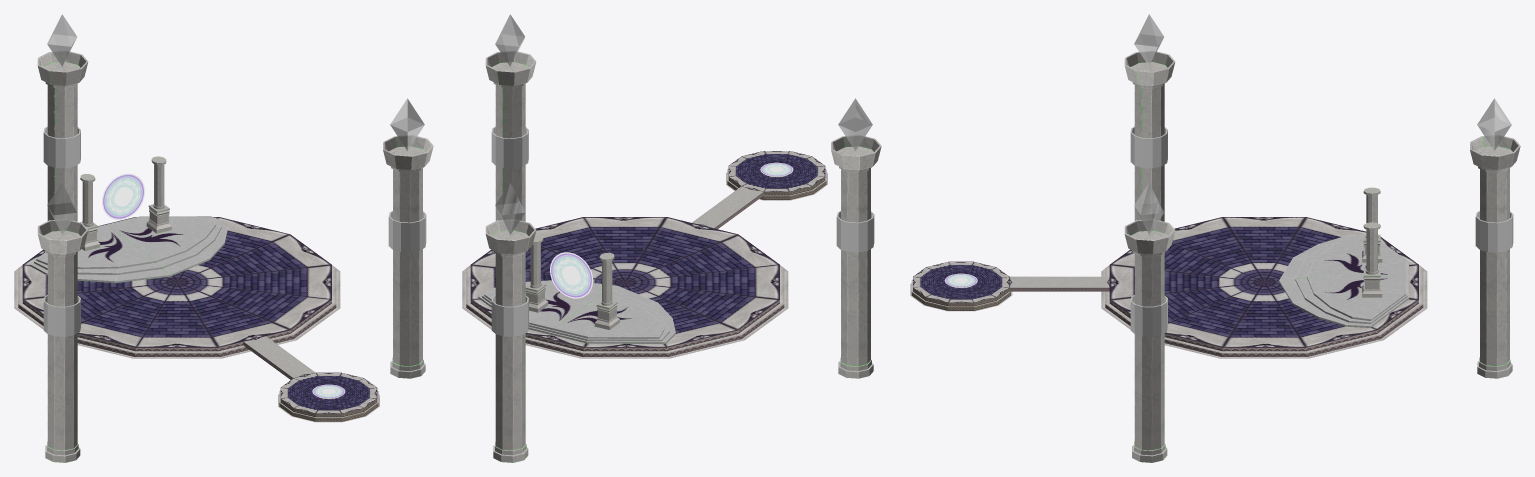
The model's file is stage01_attatch.FBX.
The picture shows the model from 3 angles, left to right: view 1: azimuth 30°, elevation 25°; view 2: azimuth 150°, elevation 25°; view 3: azimuth 270°, elevation 25°; orthographic projection.
Parts seen in each view (by area): view 1: Object003; view 2: Object003; view 3: Object003.
Part boxes in pixels (x1,y1,x2,y2): Object003: (14,14,433,462); Object003: (462,14,881,462); Object003: (910,14,1520,462).
Size of the model in its own units: 1049 by 702 by 1422.
